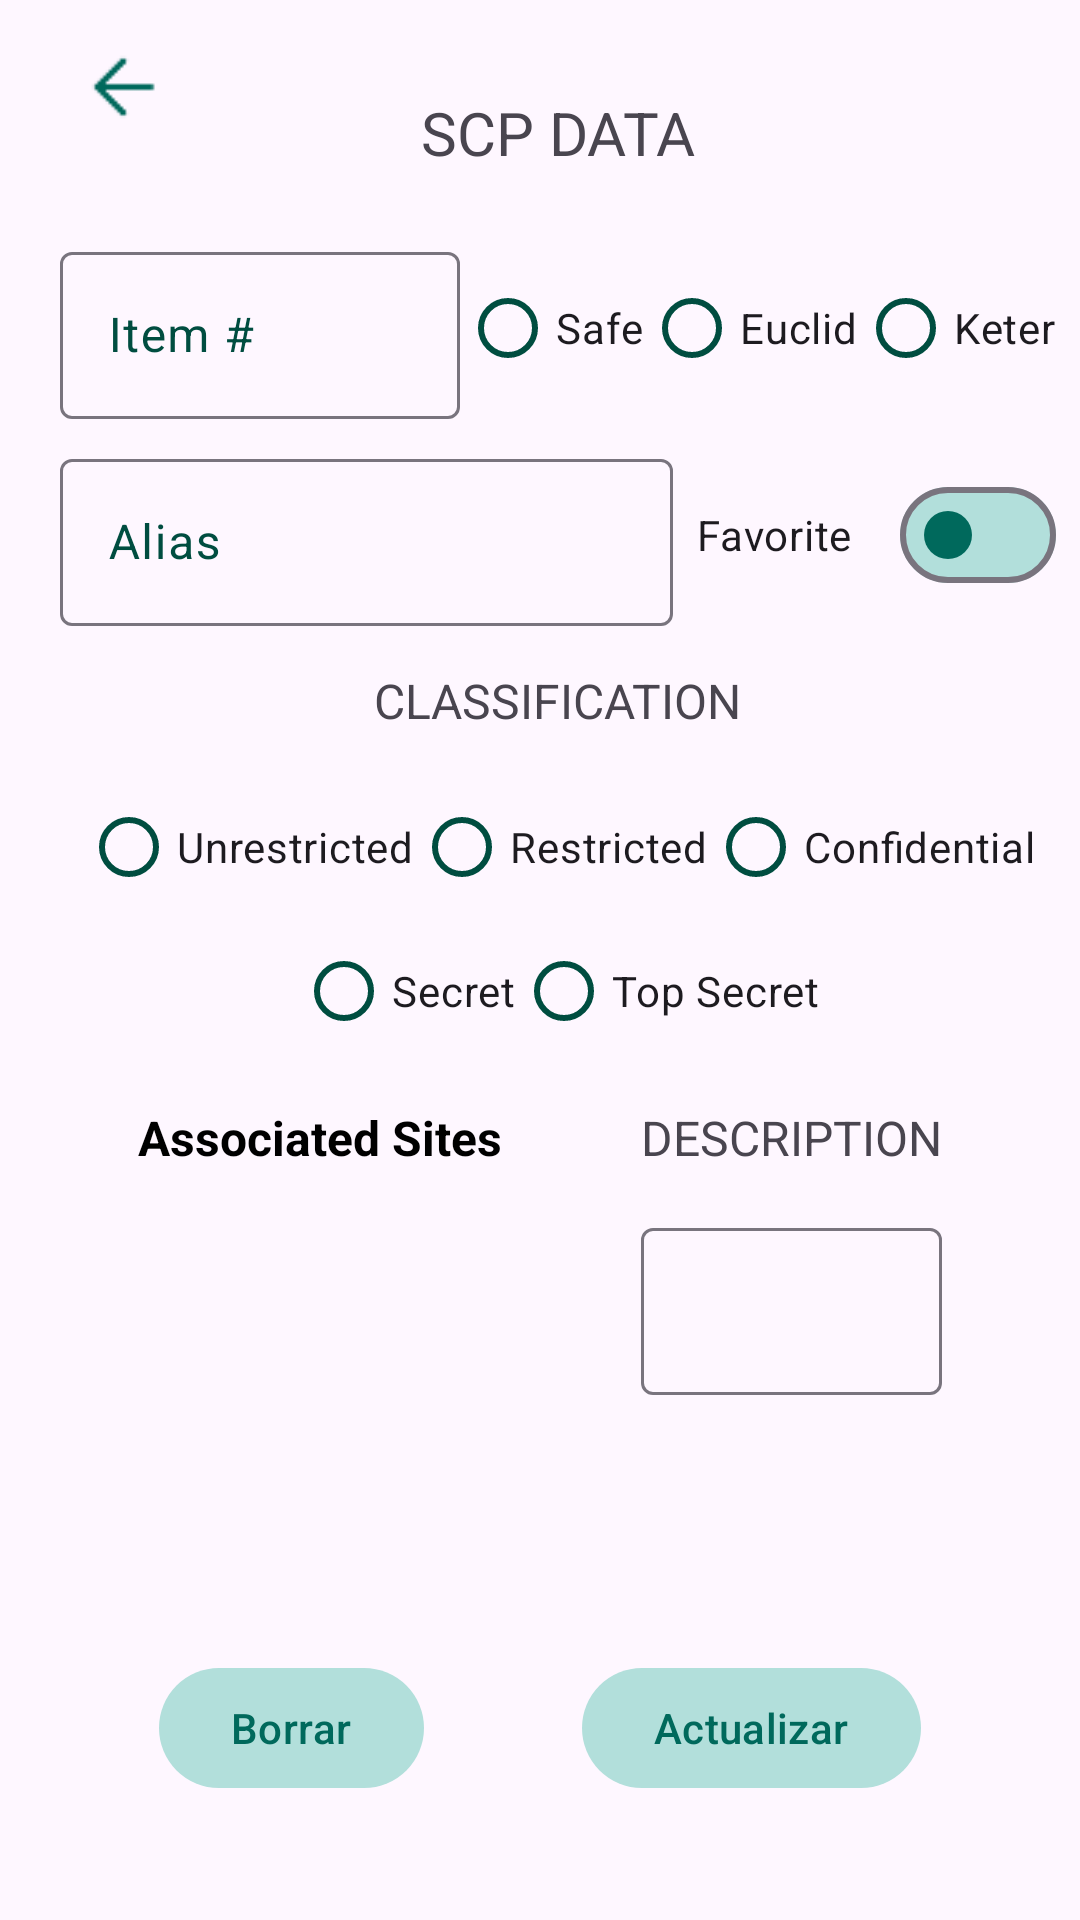

Named icons in this screenshot (1080 x 1920) and their bounding boxes, (x1, y1, x2, y2):
arrow back: (93, 58, 155, 116)
